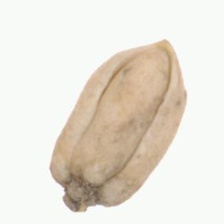L1: (54, 179, 107, 212), (152, 34, 178, 84)
L2: (48, 37, 187, 212)
